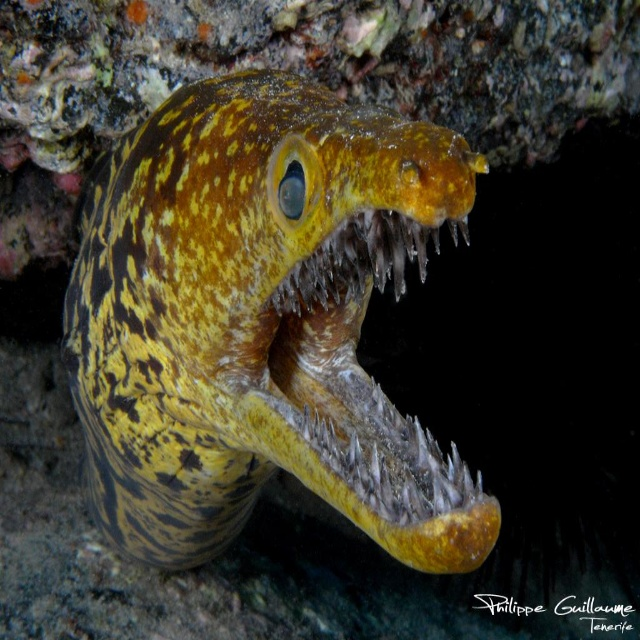Fish: (64, 70, 504, 578)
